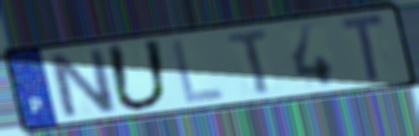4: (292, 21, 340, 90)
L: (168, 35, 228, 107)
N: (44, 46, 121, 121)
T: (337, 11, 388, 87), (224, 26, 275, 97)
U: (103, 37, 173, 114)
